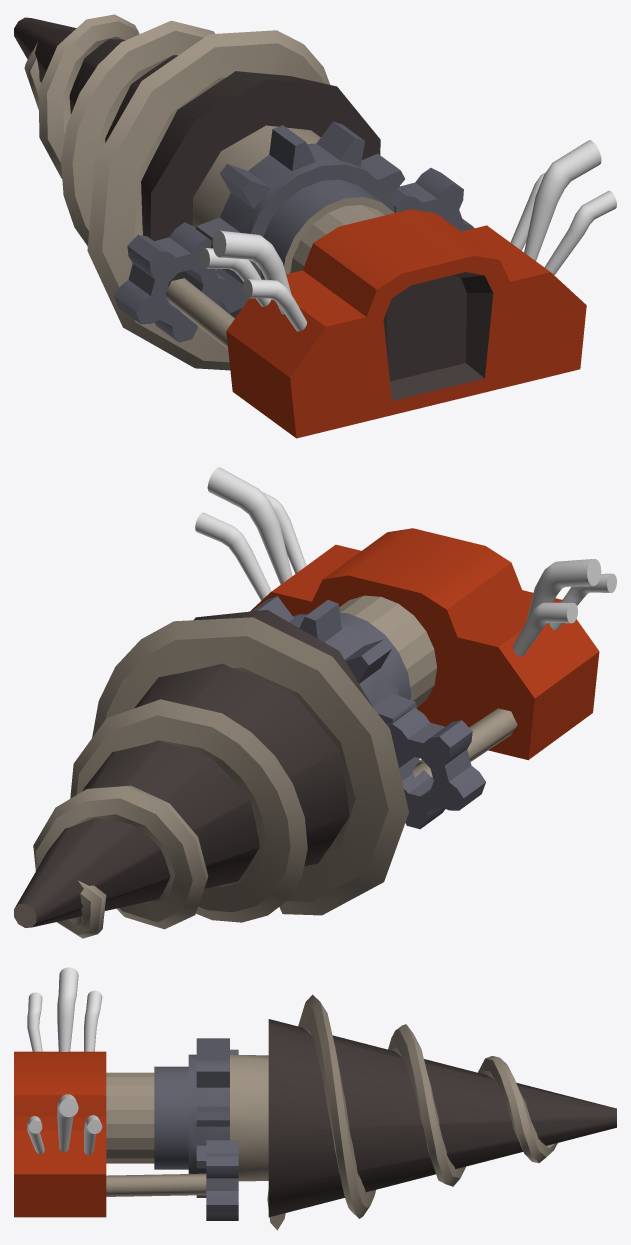
Rendered from SM_BoatRam_V3_001.fbx.
3 views of the same model, one above another, from view 1: azimuth 30°, elevation 25°; view 2: azimuth 150°, elevation 25°; view 3: azimuth 270°, elevation 25° (orthographic). The views are drawn at different scales.
Visible parts, largest first — view 1: SM_RamDrillV3, SM_RamBaseV3, SM_RamCogLeftV3, SM_RamCogRight3; view 2: SM_RamDrillV3, SM_RamBaseV3, SM_RamCogLeftV3; view 3: SM_RamDrillV3, SM_RamBaseV3, SM_RamCogRight3.
Part boxes in pixels (x1,y1,x2,y2): SM_RamDrillV3: [14, 14, 404, 370]; SM_RamBaseV3: [166, 140, 616, 438]; SM_RamCogLeftV3: [114, 222, 230, 342]; SM_RamCogRight3: [390, 168, 474, 231]; SM_RamDrillV3: [14, 595, 436, 938]; SM_RamBaseV3: [195, 467, 616, 777]; SM_RamCogLeftV3: [387, 707, 485, 829]; SM_RamDrillV3: [106, 994, 616, 1230]; SM_RamBaseV3: [14, 967, 206, 1217]; SM_RamCogRight3: [206, 1140, 238, 1220].
Bounding box in the file's own units: 150 × 119 × 285.
